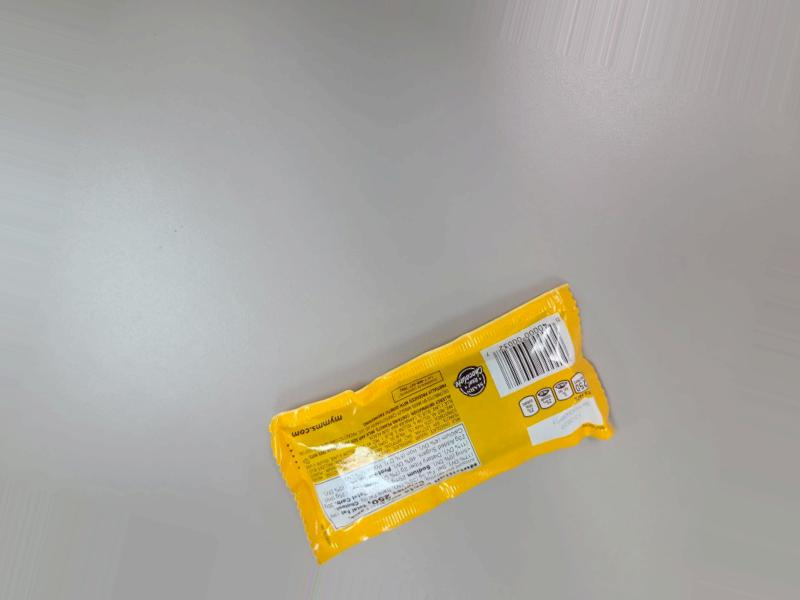m&m: (278, 277, 620, 555)
